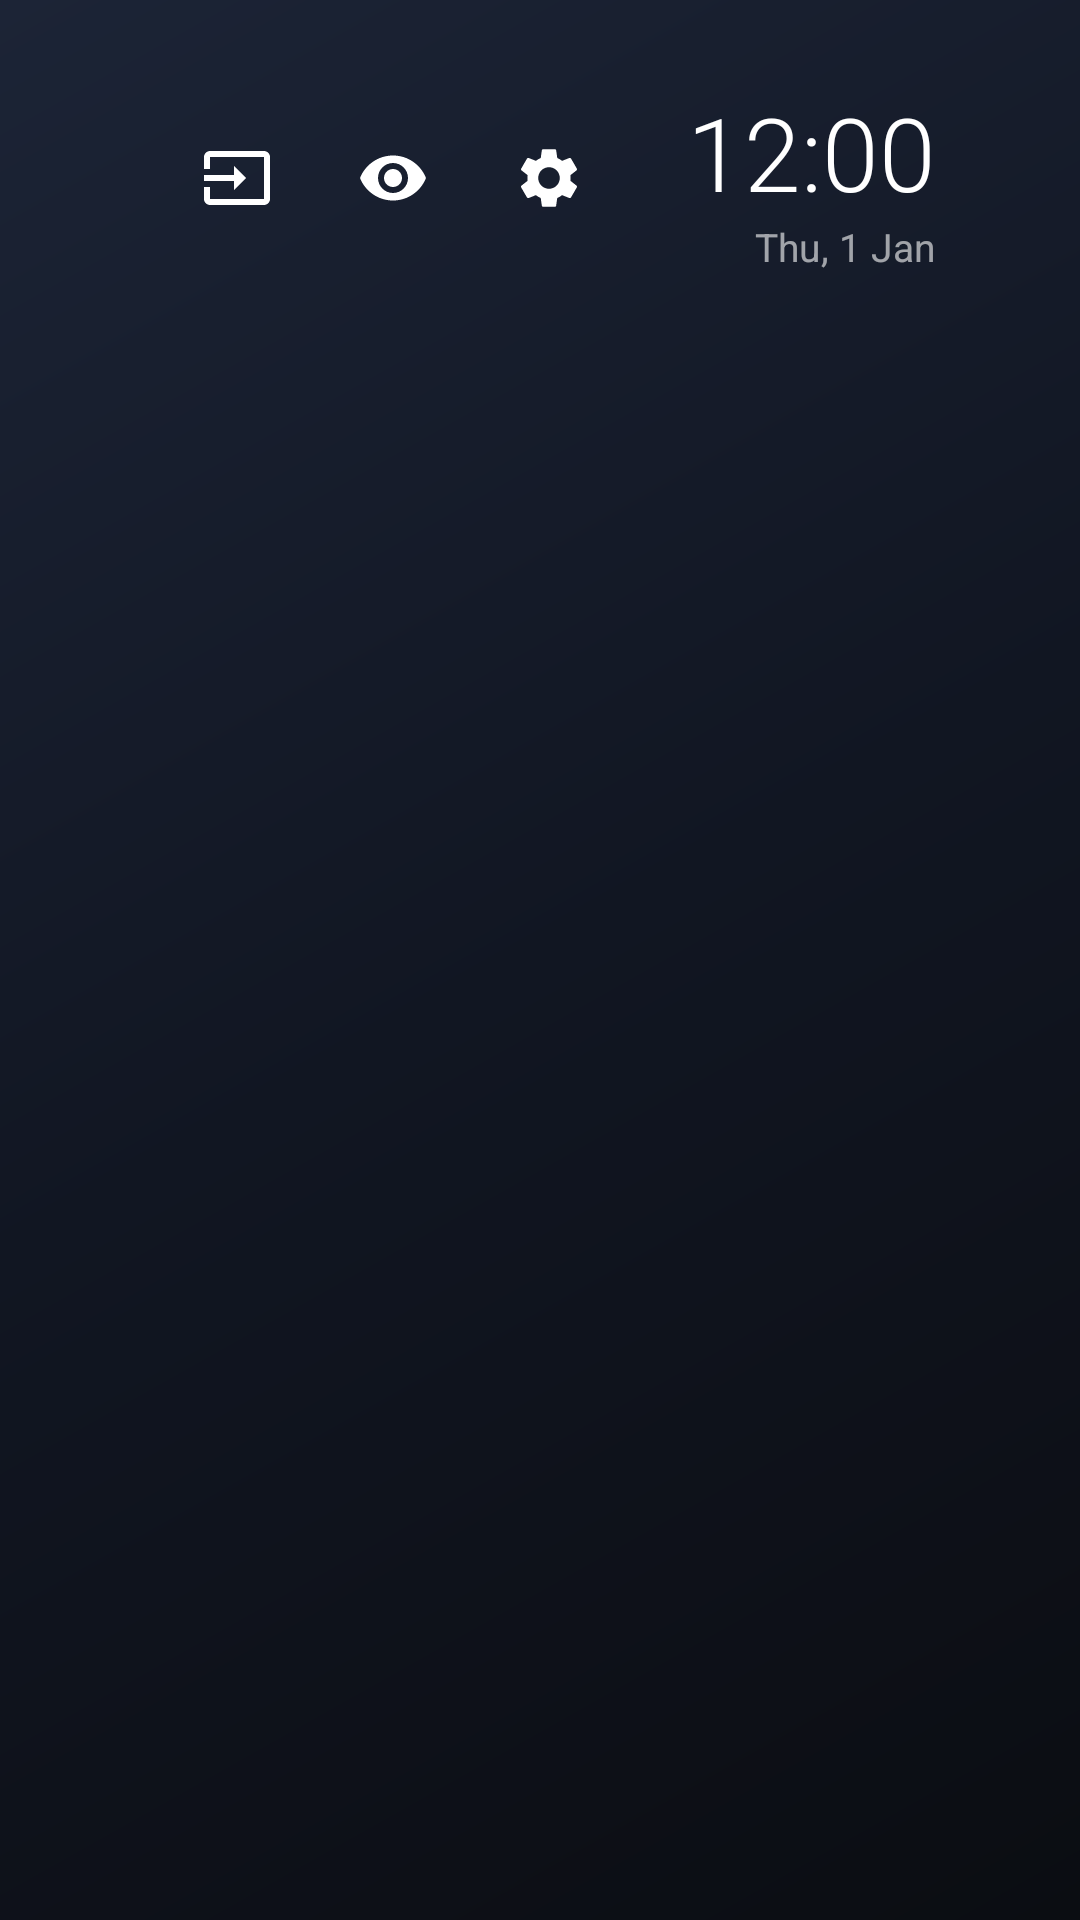

Icon click points for this 1080×1920 phone screenshot, format (x=x, y=y):
Inputs: (x=237, y=178)
Settings: (x=549, y=178)
